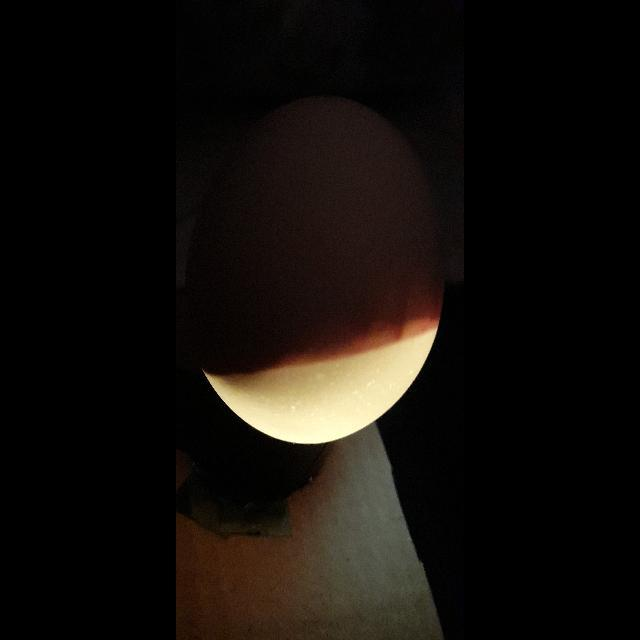Fertile: (186, 82, 452, 454)
